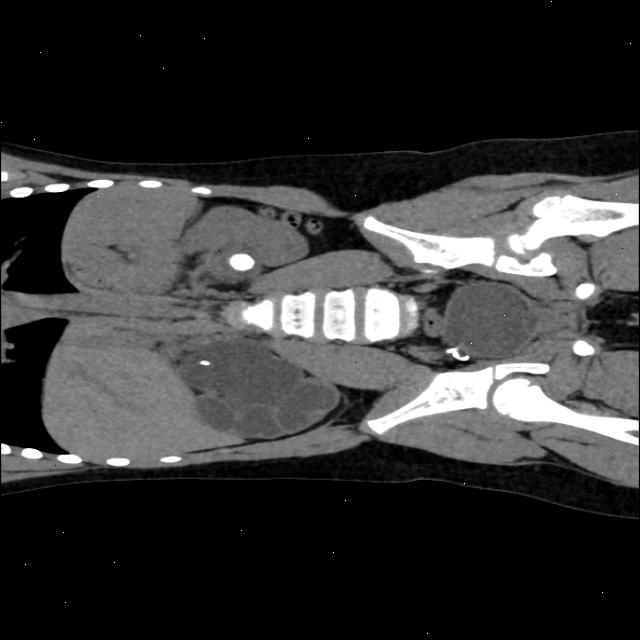kidneystone: (229, 252, 253, 270)
